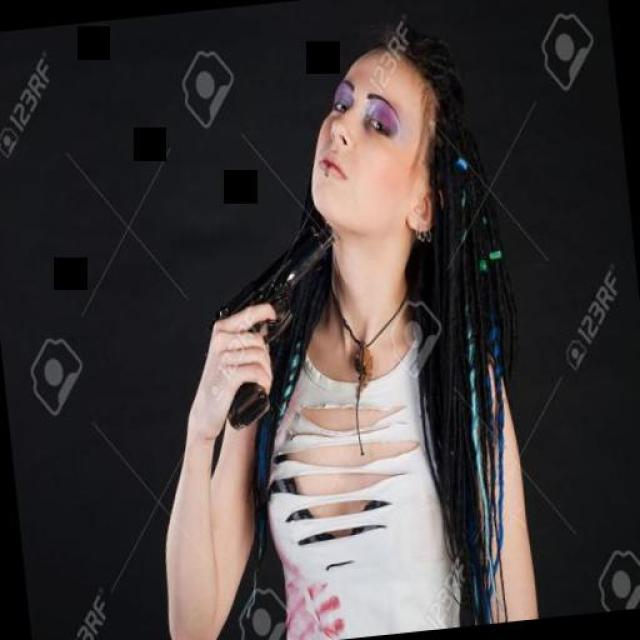gun: (196, 215, 379, 434)
